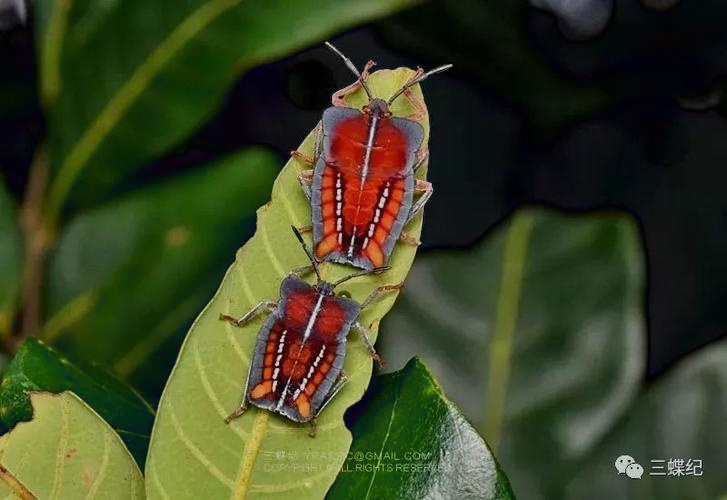Stink_Bug: (324, 80, 404, 274), (245, 288, 355, 425)
